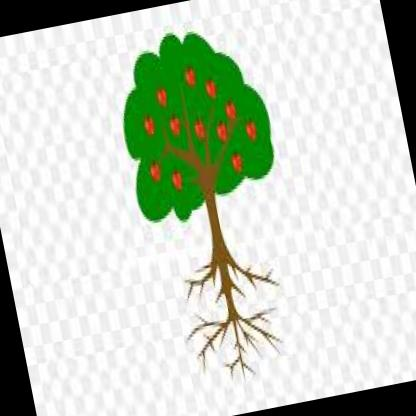apple: (191, 113, 208, 146), (146, 158, 164, 187), (212, 117, 230, 146), (139, 110, 157, 139), (221, 96, 239, 124), (169, 166, 186, 195), (165, 108, 182, 137), (184, 62, 198, 92), (228, 149, 244, 173), (203, 76, 219, 100), (153, 84, 169, 108), (244, 117, 258, 142)
crown_cloud: (105, 17, 284, 230)
root_only: (169, 237, 297, 386)
trunk_straight: (204, 200, 226, 245)
